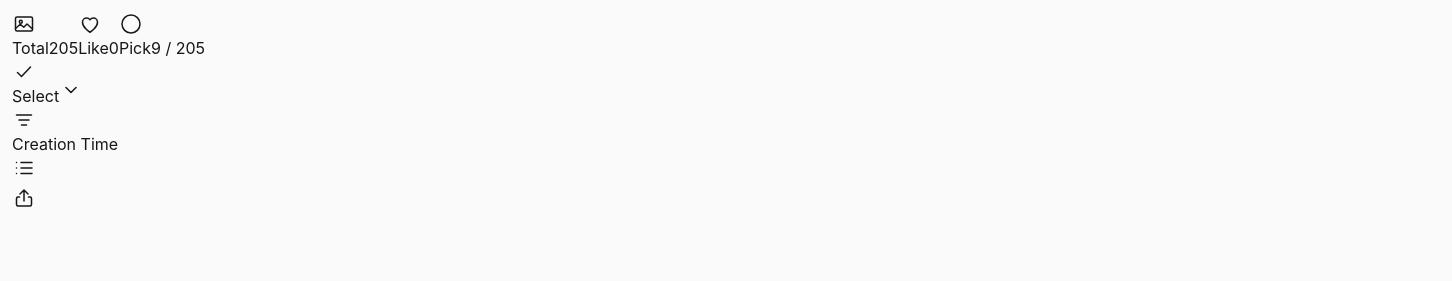
it: GalleryToolbar › closes a menu on a pointerdown outside it
Click the button "Creation Time" at (65, 132), box [12,108,118,156]
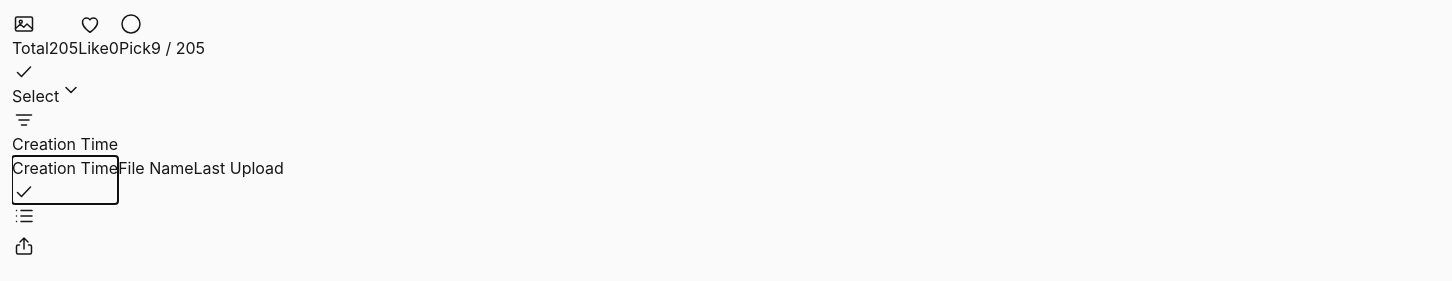
Result: the menu is shown at [12,156,284,204]
Press the mouse on the menu item "File Name" at (156, 168), box [118,156,194,180]
Result: the menu is shown at [12,156,284,204]
Press the mouse on the element that starts with "Total" at (732, 138), box [12,12,1451,264]
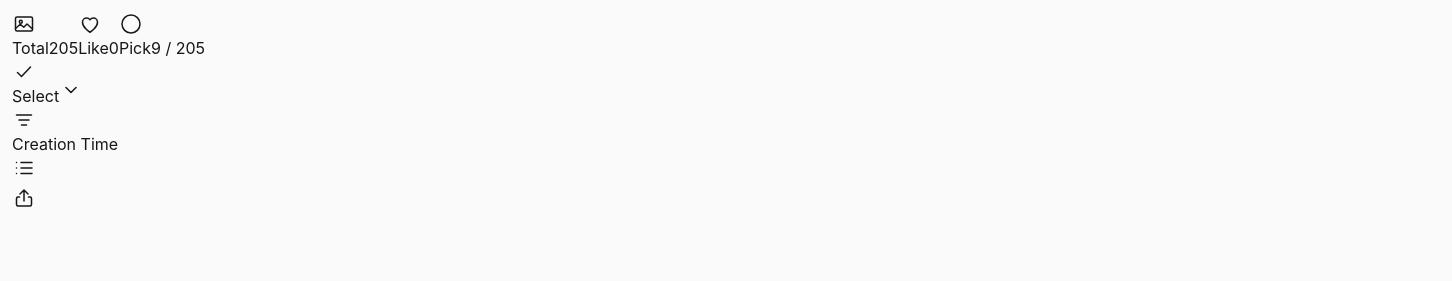
Result: the menu is gone
